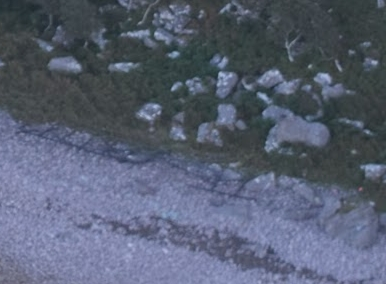cuboid: (20, 113, 173, 169)
tube: (186, 179, 257, 201)
